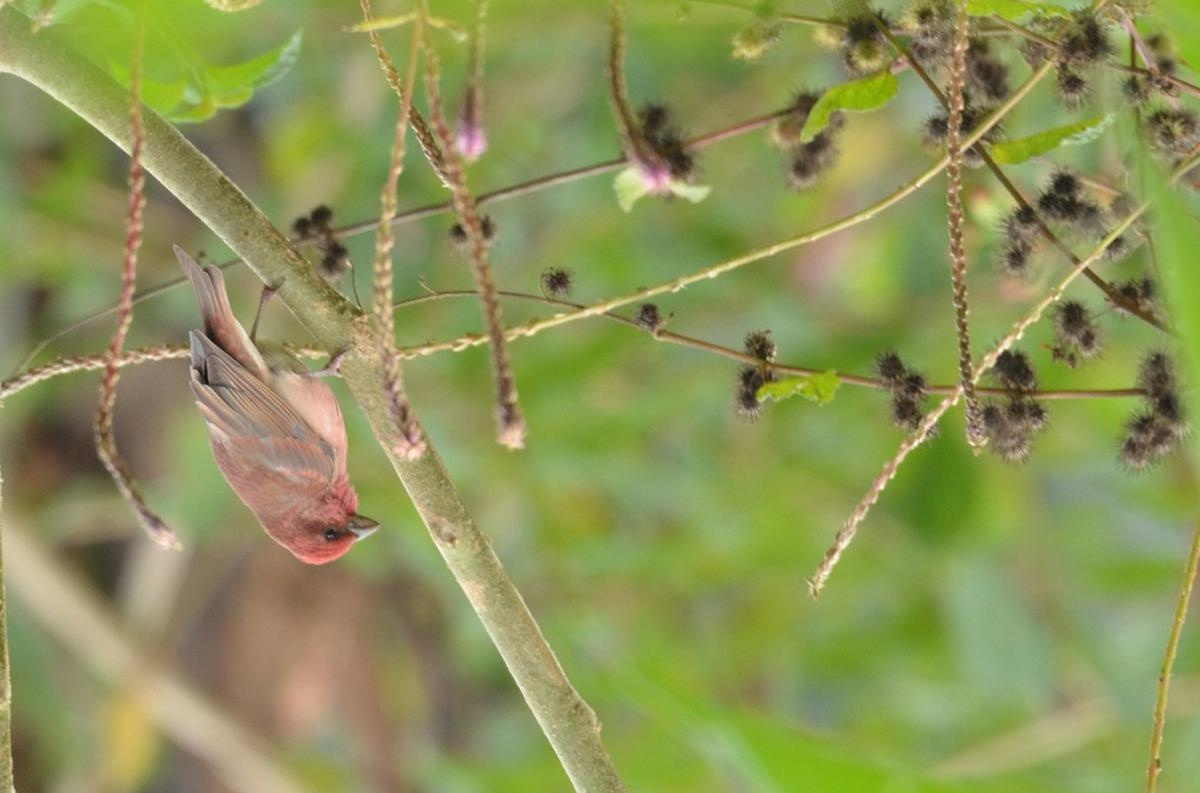rosefinch: (153, 249, 384, 577)
